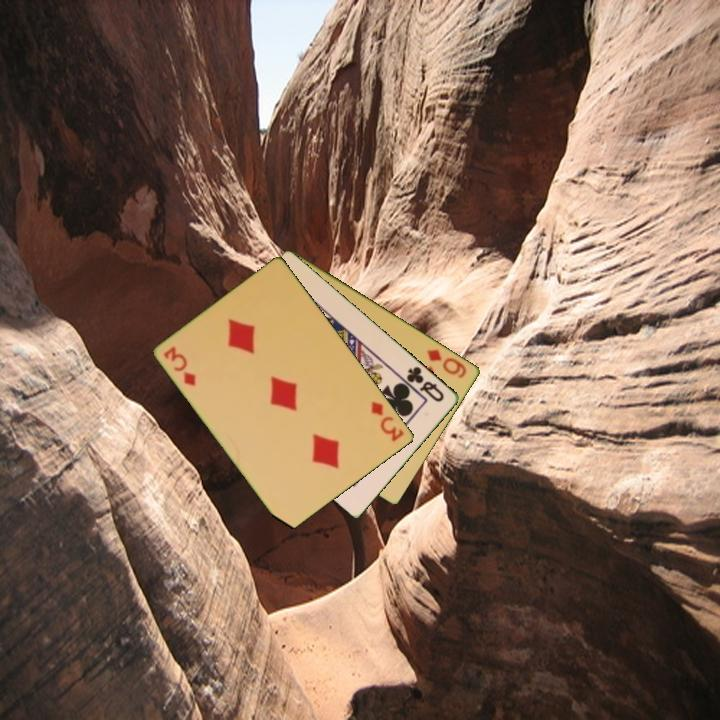3d: (368, 397, 408, 445), (160, 343, 199, 389)
6d: (424, 345, 470, 382)
Qc: (403, 363, 448, 405)
